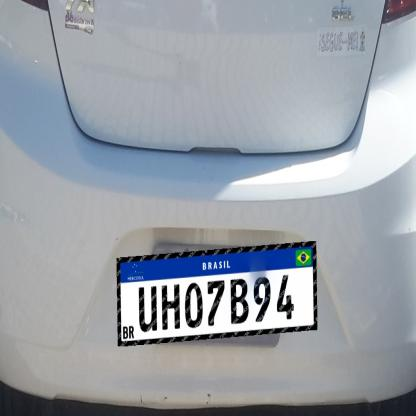PlacaM: (117, 241, 317, 346)
